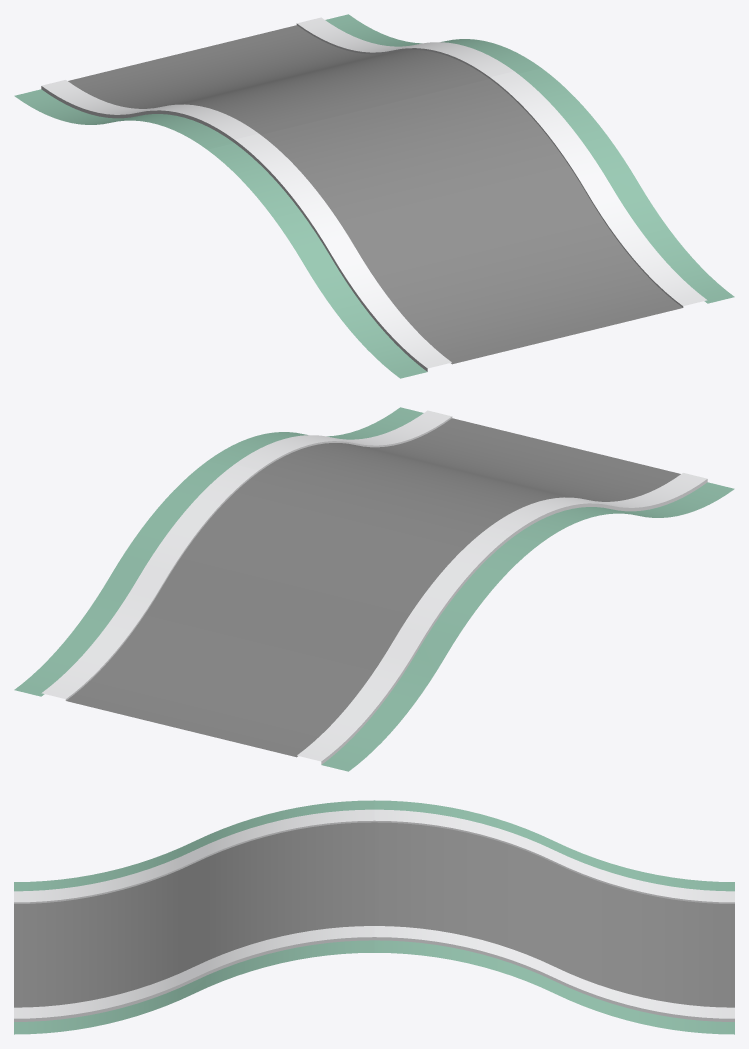
The model's file is roadStraightLongBump.gltf.
3 views of the same model, one above another, from view 1: azimuth 30°, elevation 25°; view 2: azimuth 150°, elevation 25°; view 3: azimuth 270°, elevation 25° (orthographic). The views are drawn at different scales.
Parts seen in each view (by area): view 1: roadStraightLongBump; view 2: roadStraightLongBump; view 3: roadStraightLongBump.
Boxes of the visible parts, bbox=[...] form: roadStraightLongBump: bbox=[14, 14, 734, 378]; roadStraightLongBump: bbox=[14, 407, 734, 771]; roadStraightLongBump: bbox=[14, 800, 734, 1034].
Bounding box in the file's own units: 10 × 2.6 × 20.
